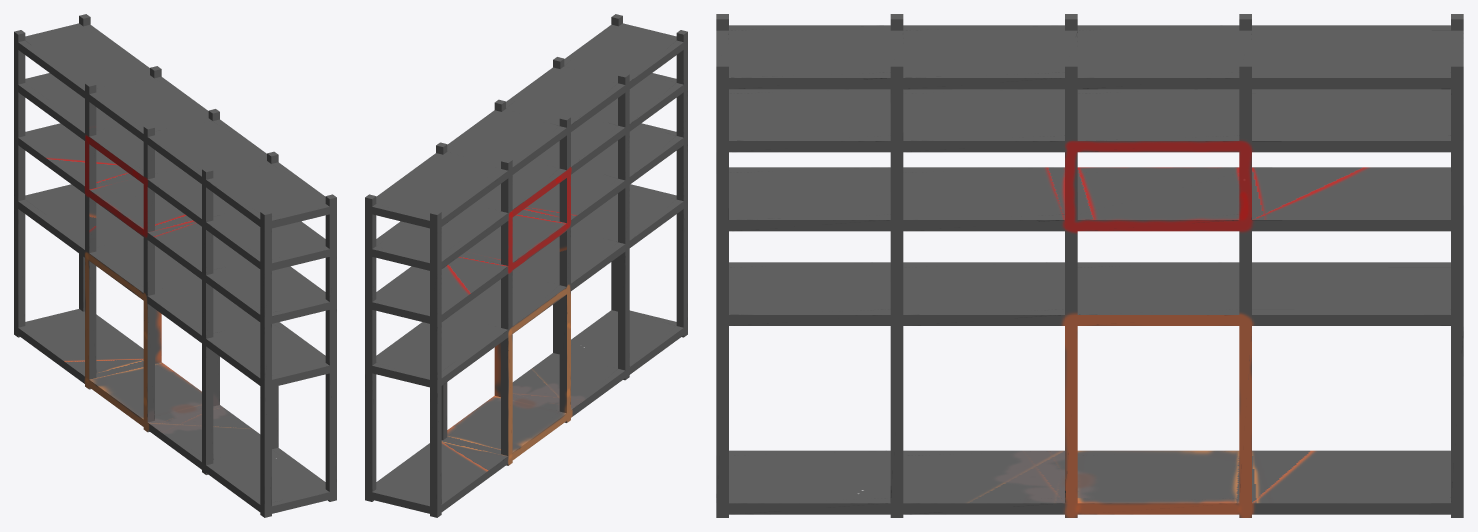
The model's file is estanteria.dae.
3 renders of one model, left to right at view 1: azimuth 30°, elevation 25°; view 2: azimuth 150°, elevation 25°; view 3: azimuth 270°, elevation 25°, orthographic. The views are drawn at different scales.
Parts seen in each view (by area): view 1: Estantes; view 2: Estantes; view 3: Estantes.
Boxes of the visible parts, x1,y1,x2,y2 form: Estantes: (14, 14, 336, 517); Estantes: (365, 14, 687, 517); Estantes: (716, 14, 1463, 517).
Bounding box in the file's own units: 0.5071 × 3.04 × 2.03.
1 material, 1 textured.
